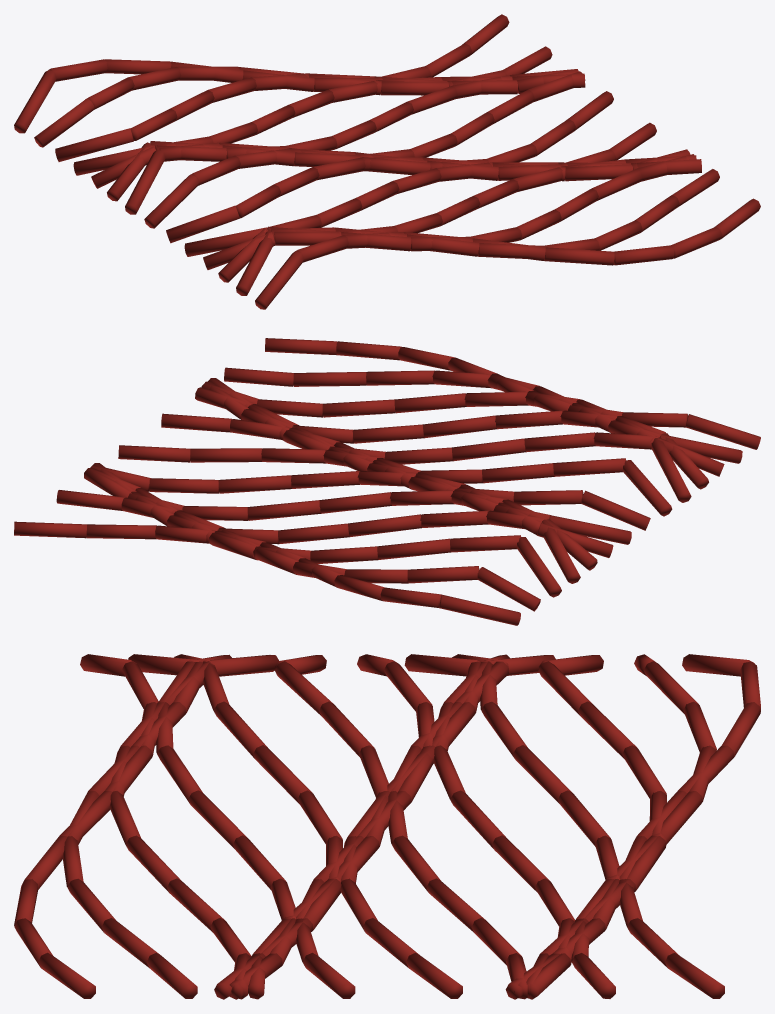
File: Saffron.glb
3 views of the same model, one above another, from view 1: azimuth 30°, elevation 25°; view 2: azimuth 150°, elevation 25°; view 3: azimuth 270°, elevation 25° (orthographic). The views are drawn at different scales.
Visible parts, largest first — view 1: Saffron; view 2: Saffron; view 3: Saffron.
Part boxes in pixels (<box>): Saffron: <box>14,14,760,309</box>; Saffron: <box>14,338,760,625</box>; Saffron: <box>14,654,760,999</box>.
Size of what is drawn, in the model's own units: 0.0219 by 0.00244 by 0.0226.
